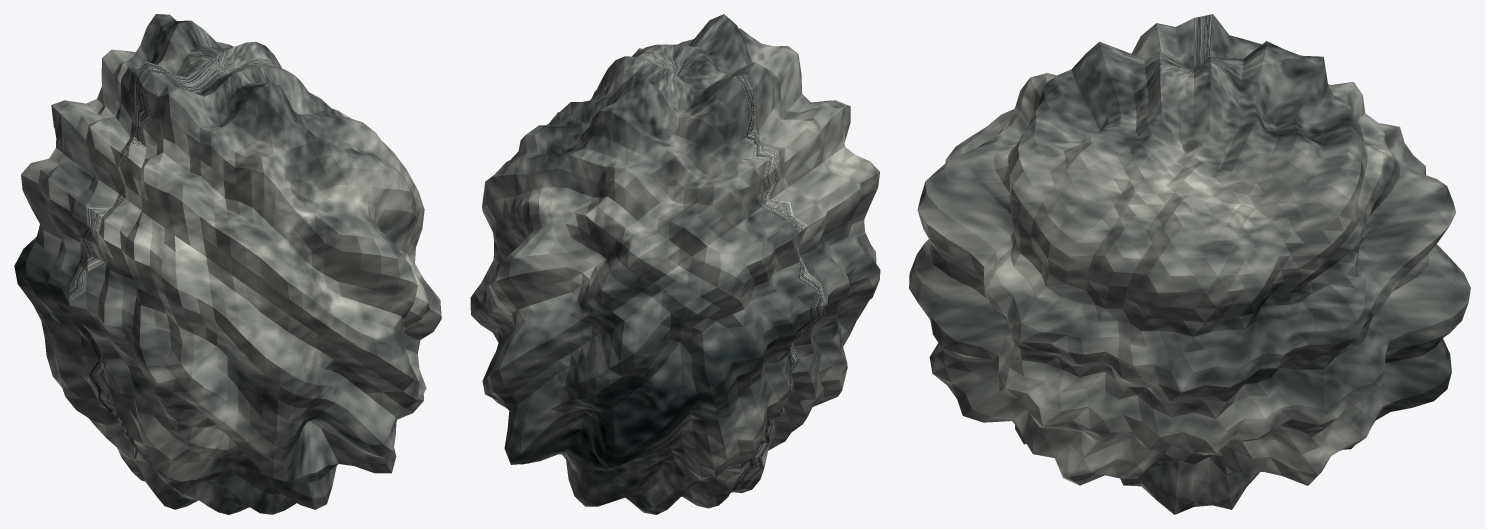
Rendered from small_02.glb.
3 views of the same model, side by side, from view 1: azimuth 30°, elevation 25°; view 2: azimuth 150°, elevation 25°; view 3: azimuth 270°, elevation 25° (orthographic).
Parts seen in each view (by area): view 1: rock; view 2: rock; view 3: rock.
Boxes of the visible parts, x1,y1,x2,y2 form: rock: [14, 14, 441, 514]; rock: [470, 14, 880, 514]; rock: [909, 14, 1470, 514].
Bounding box in the file's own units: 0.7468 × 0.9979 × 1.13.
Materials: 1 (1 with a texture image).
